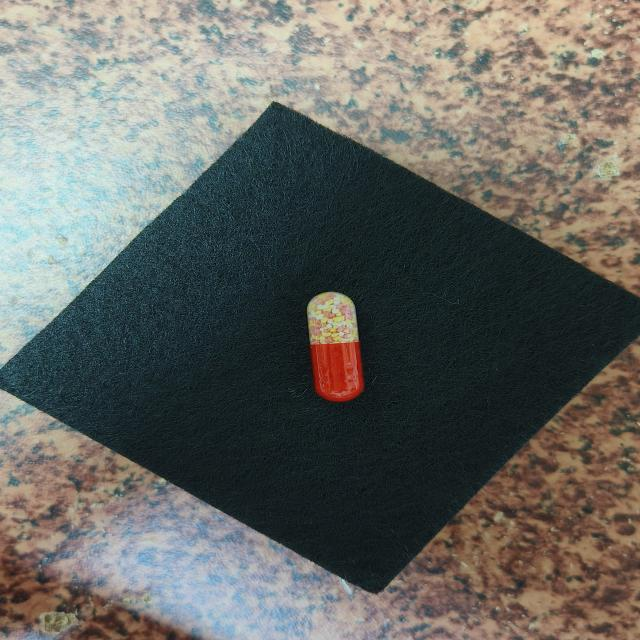Intact Capsule: (307, 292, 364, 402)
